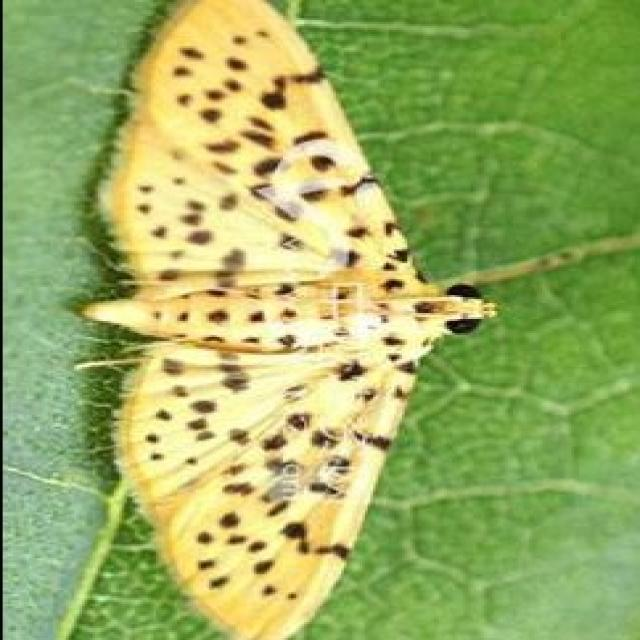peach borer: (72, 3, 501, 640)
